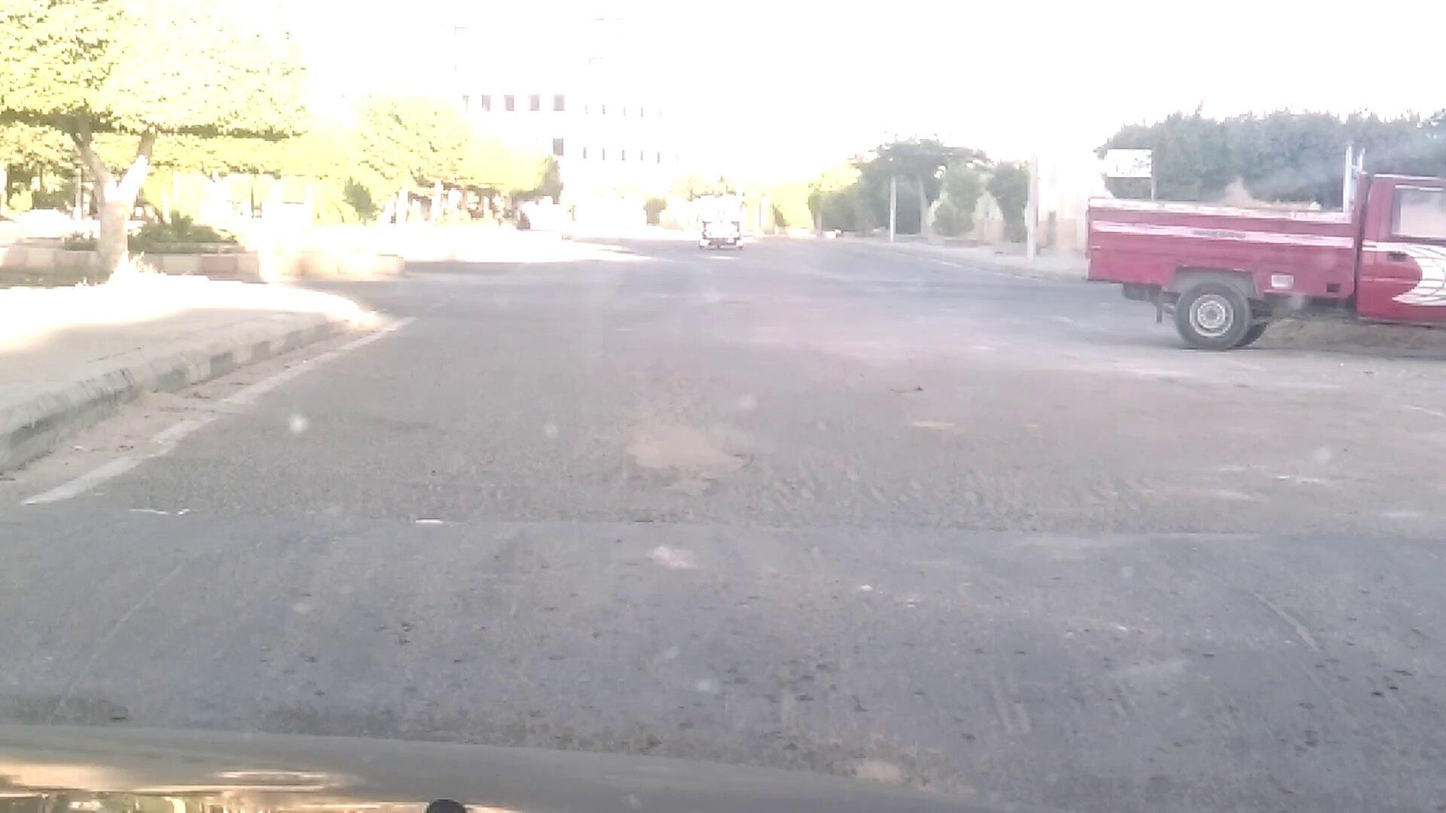Bump: (8, 510, 1446, 792)
